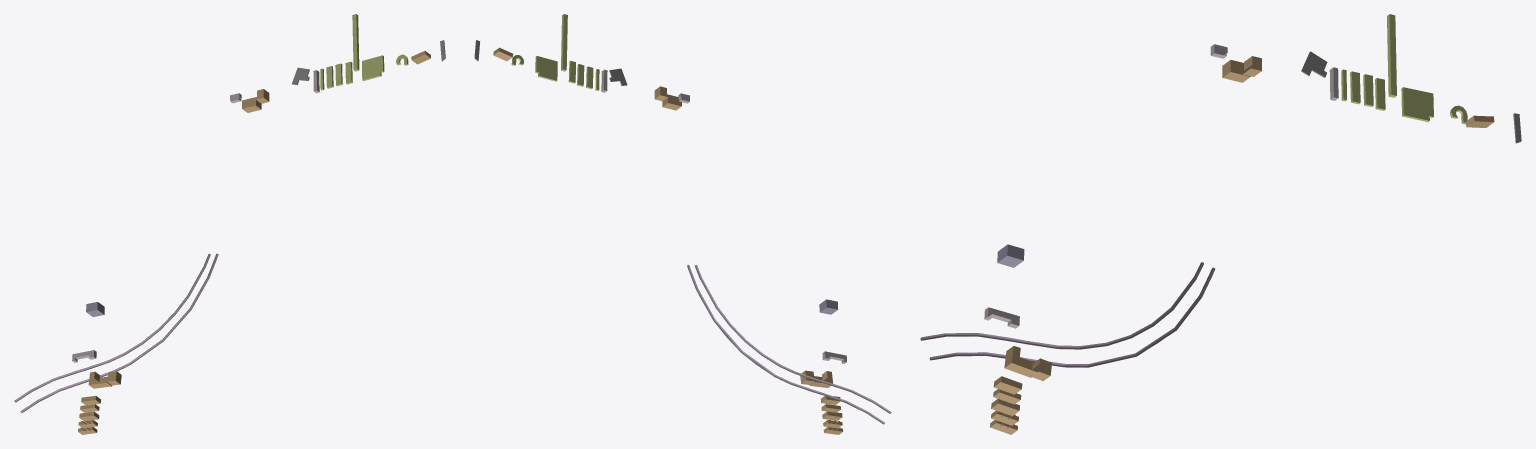
3 renders of one model, left to right at view 1: azimuth 30°, elevation 25°; view 2: azimuth 150°, elevation 25°; view 3: azimuth 330°, elevation 25°, orthographic. The views are drawn at different scales.
Parts seen in each view (by area): view 1: 0_0_3_1; view 2: 0_0_3_1; view 3: 0_0_3_1.
Boxes of the visible parts, bbox=[...] form: 0_0_3_1: bbox=[14, 14, 445, 434]; 0_0_3_1: bbox=[474, 14, 891, 434]; 0_0_3_1: bbox=[920, 14, 1521, 434].
Size of the model in its own units: 1160 by 922 by 65.37.
